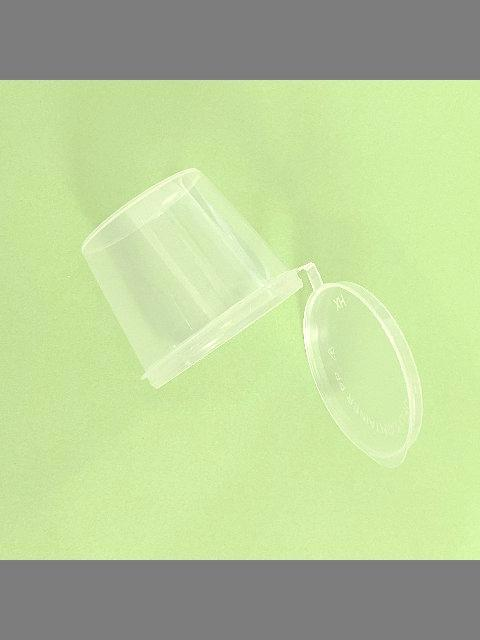plasticcontainer: (77, 166, 425, 470)
